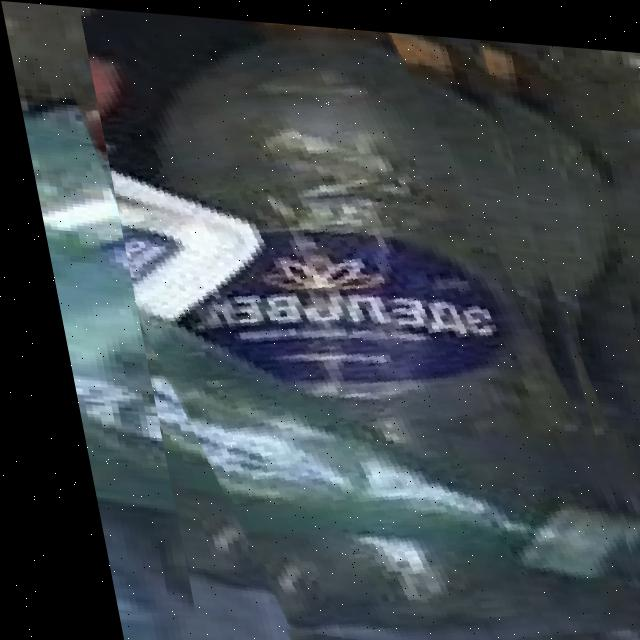plasticbottle: (78, 5, 640, 640)
